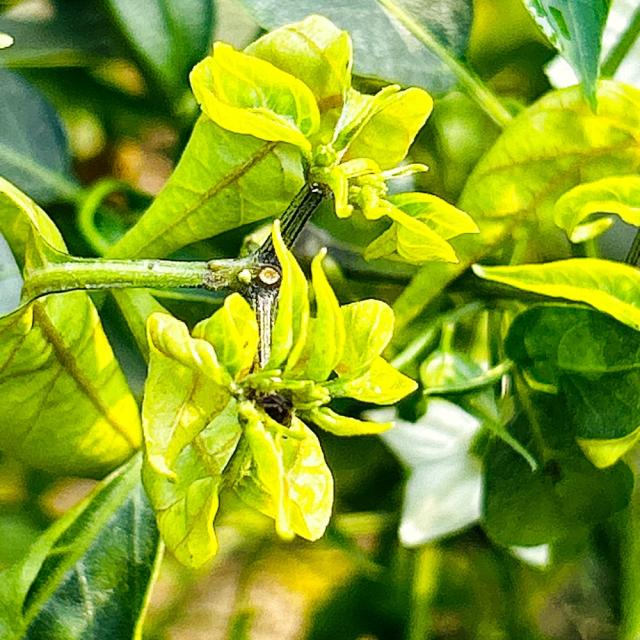Chilli_Leaf_Curl: (1, 3, 638, 636), (138, 222, 419, 570), (181, 13, 479, 267), (0, 174, 143, 478), (470, 255, 639, 331)
